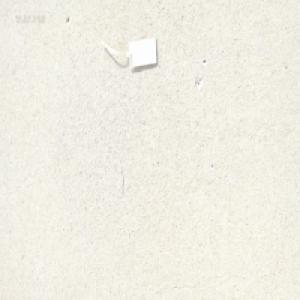LuggageTag: (99, 31, 159, 69)
